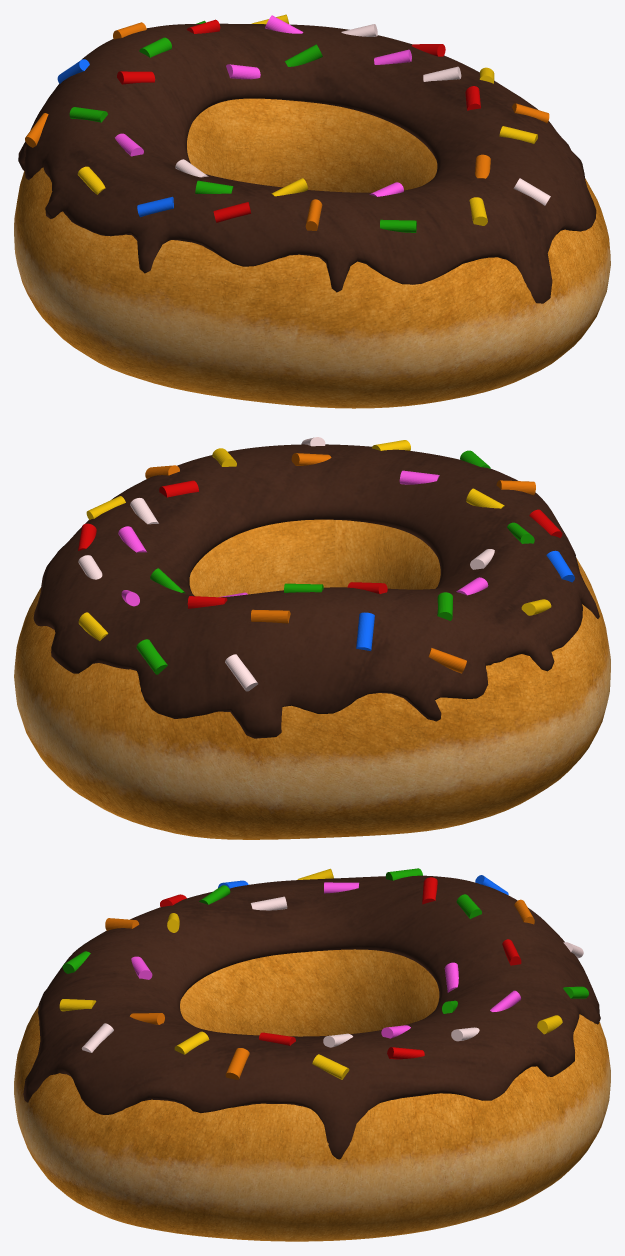
File: donut.glb
3 renders of one model, top to bottom at view 1: azimuth 30°, elevation 25°; view 2: azimuth 150°, elevation 25°; view 3: azimuth 270°, elevation 25°, orthographic. The views are drawn at different scales.
Parts seen in each view (by area): view 1: sm_food_prepared_donut_a01_01_mesh_00.001; view 2: sm_food_prepared_donut_a01_01_mesh_00.001; view 3: sm_food_prepared_donut_a01_01_mesh_00.001.
Part boxes in pixels (x1=…): sm_food_prepared_donut_a01_01_mesh_00.001: x1=14, y1=14, x2=610, y2=408; sm_food_prepared_donut_a01_01_mesh_00.001: x1=14, y1=437, x2=610, y2=839; sm_food_prepared_donut_a01_01_mesh_00.001: x1=14, y1=868, x2=610, y2=1241.
Bounding box in the file's own units: 0.0963 × 0.0443 × 0.105.
Materials: 1 (1 with a texture image).
